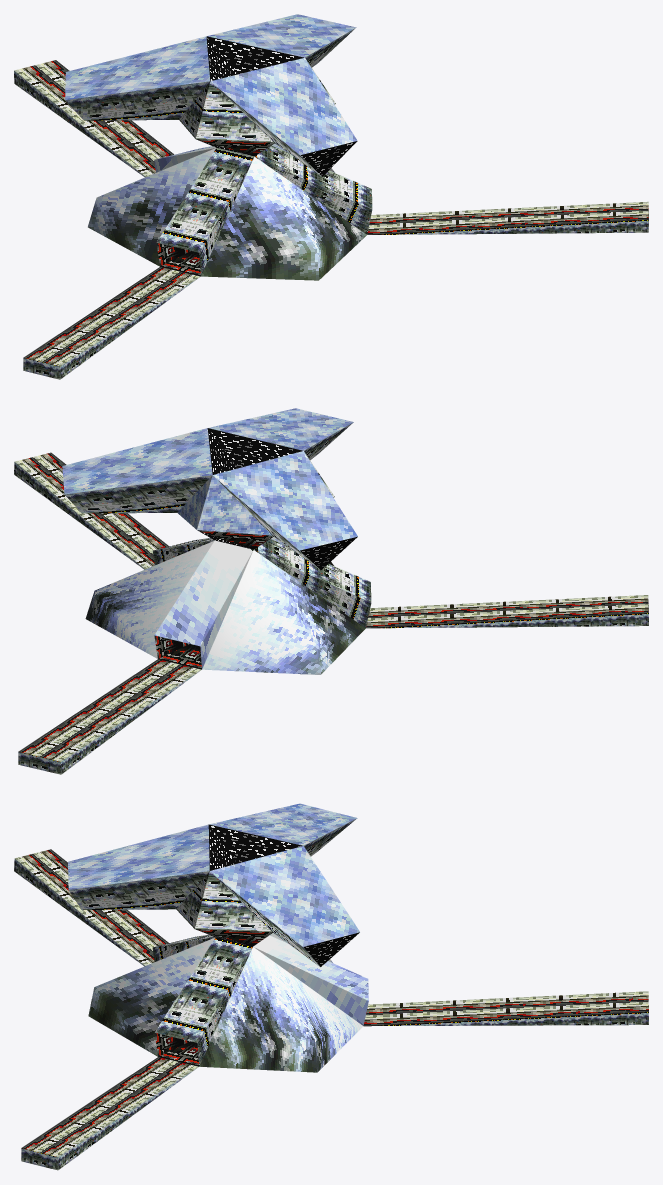
Rendered from Fortuna Base.dae.
3 views of the same model, one above another, from view 1: azimuth 30°, elevation 25°; view 2: azimuth 150°, elevation 25°; view 3: azimuth 270°, elevation 25° (orthographic).
Visible parts, largest first — view 1: base, snow, ice, runway, techno, machine; view 2: snow, ice, runway, base, techno, machine; view 3: snow, base, ice, runway, techno, machine.
Boxes of the visible parts, x1=… form: base: x1=14, y1=28, x2=648, y2=379; snow: x1=88, y1=143, x2=366, y2=280; ice: x1=65, y1=14, x2=357, y2=154; runway: x1=14, y1=60, x2=648, y2=366; techno: x1=197, y1=36, x2=357, y2=176; machine: x1=156, y1=139, x2=274, y2=276; snow: x1=85, y1=537, x2=365, y2=674; ice: x1=62, y1=408, x2=357, y2=550; runway: x1=15, y1=452, x2=648, y2=761; base: x1=14, y1=422, x2=648, y2=774; techno: x1=198, y1=428, x2=357, y2=569; machine: x1=154, y1=530, x2=273, y2=669; snow: x1=88, y1=933, x2=368, y2=1072; base: x1=14, y1=819, x2=648, y2=1170; ice: x1=68, y1=803, x2=359, y2=946; runway: x1=15, y1=849, x2=648, y2=1156; techno: x1=196, y1=824, x2=359, y2=966; machine: x1=154, y1=929, x2=272, y2=1066.
Bounding box in the file's own units: 2618 × 669 × 2280.
Materials: 6 (6 with a texture image).
